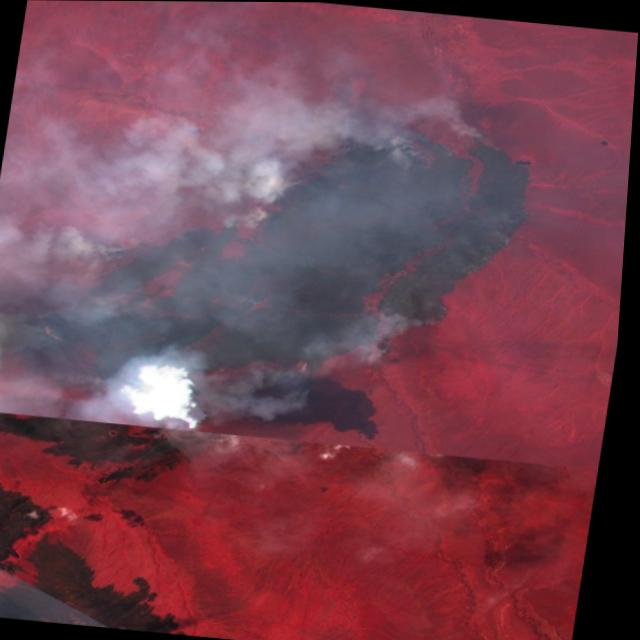fire: (18, 77, 559, 438)
